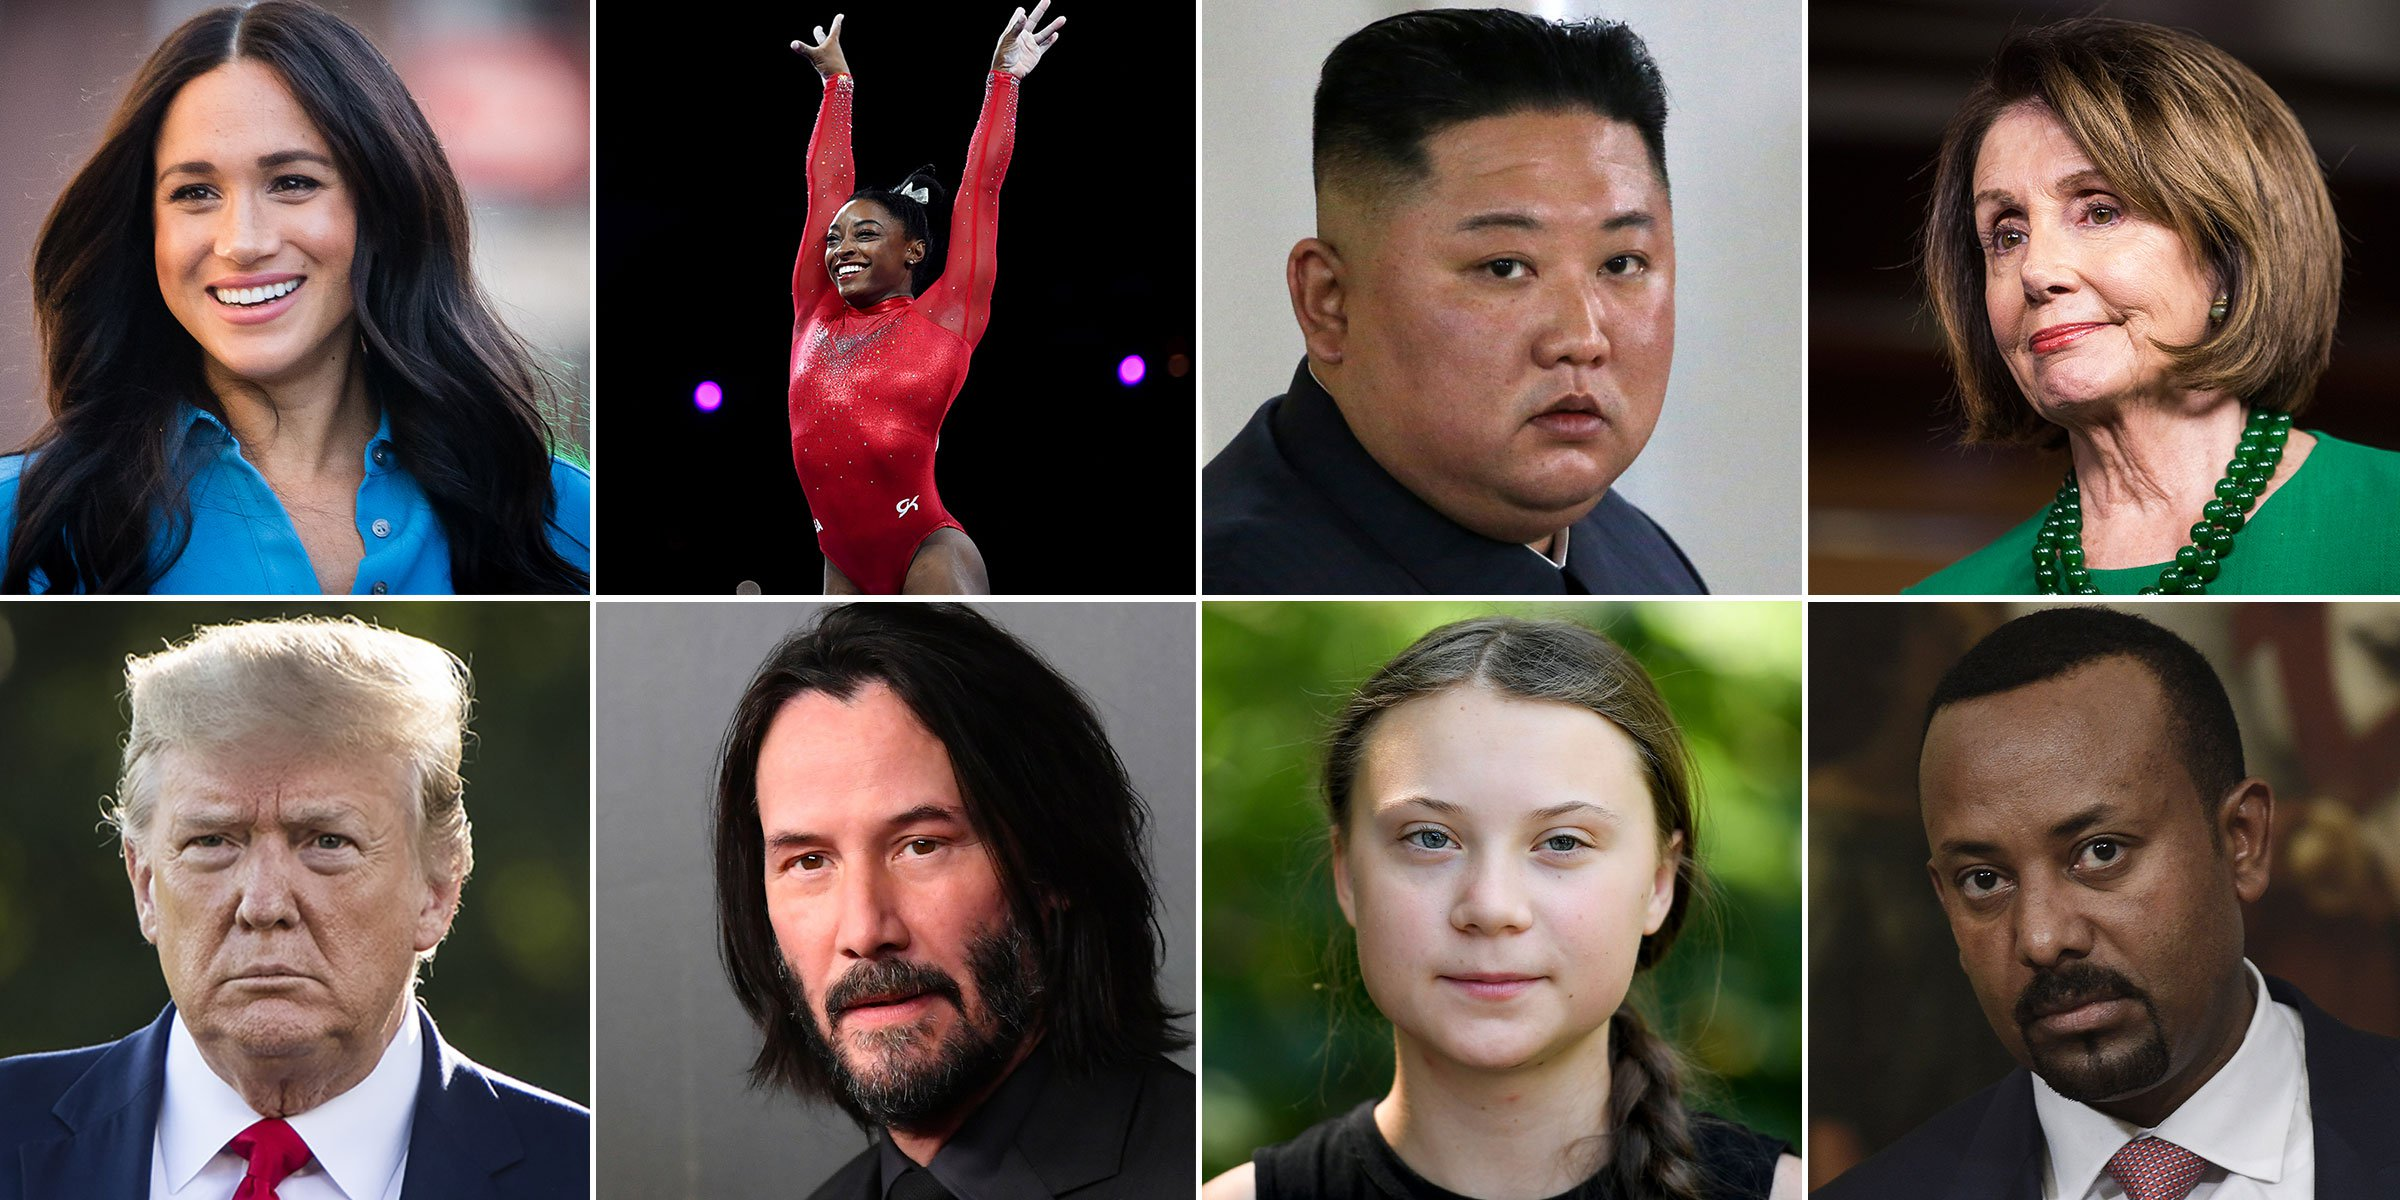noMask: (1247, 11, 1756, 524), (656, 613, 1094, 1097), (1284, 611, 1735, 1060), (1871, 628, 2313, 1080), (1890, 30, 2347, 469), (81, 630, 532, 1067), (86, 20, 435, 382), (809, 196, 933, 301)
